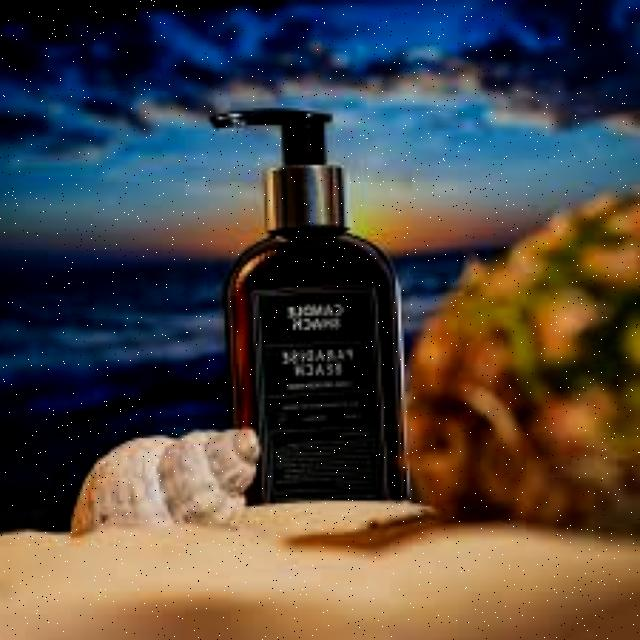liquid soap: (193, 106, 408, 518)
